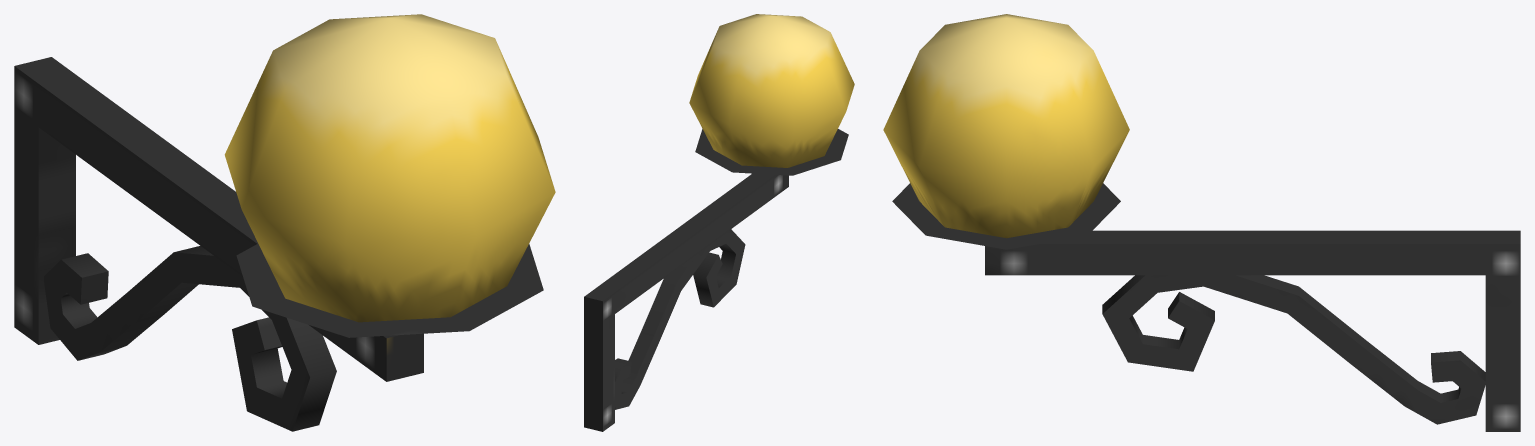
File: Street_Light_001_K.FBX
3 views of the same model, side by side, from view 1: azimuth 30°, elevation 25°; view 2: azimuth 150°, elevation 25°; view 3: azimuth 270°, elevation 25° (orthographic). The views are drawn at different scales.
Parts seen in each view (by area): view 1: Street_Light_001_K; view 2: Street_Light_001_K; view 3: Street_Light_001_K.
Boxes of the visible parts, x1,y1,x2,y2 form: Street_Light_001_K: [14, 14, 555, 431]; Street_Light_001_K: [584, 14, 854, 431]; Street_Light_001_K: [883, 14, 1520, 431].
Size of the model in its own units: 33.28 by 86.01 by 60.66.
